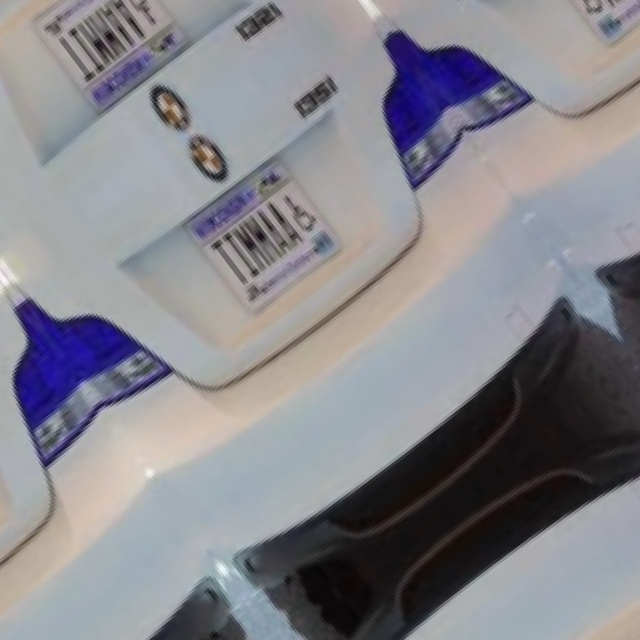ISA: (278, 190, 317, 233), (123, 0, 161, 28), (568, 0, 606, 15)
